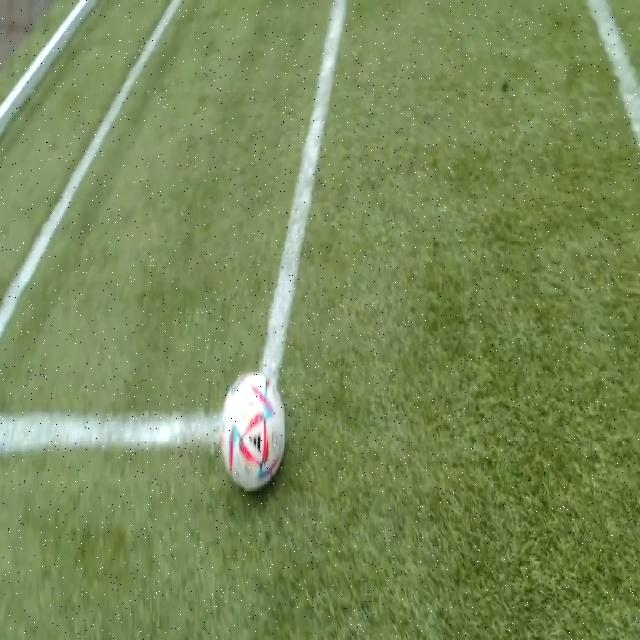ball: (220, 372, 285, 492)
